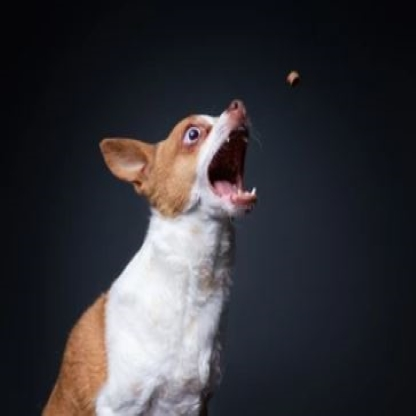chihuahua: (38, 97, 258, 414)
